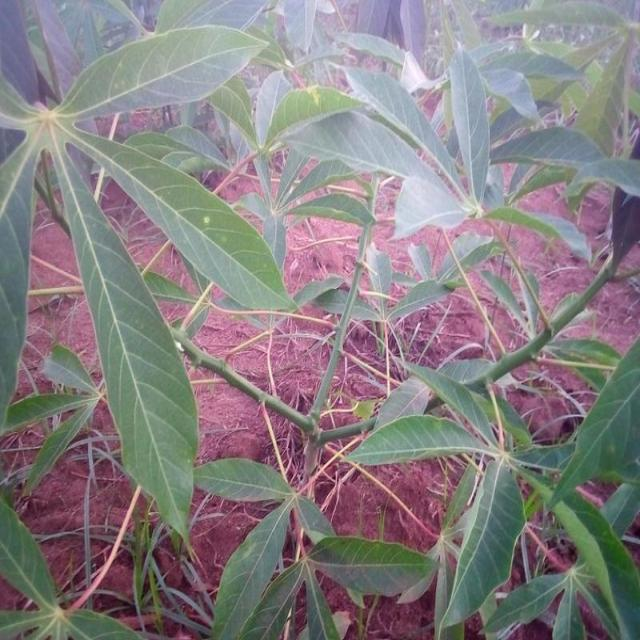cassava leaf: (0, 0, 638, 638), (49, 131, 200, 553), (62, 122, 298, 314)
